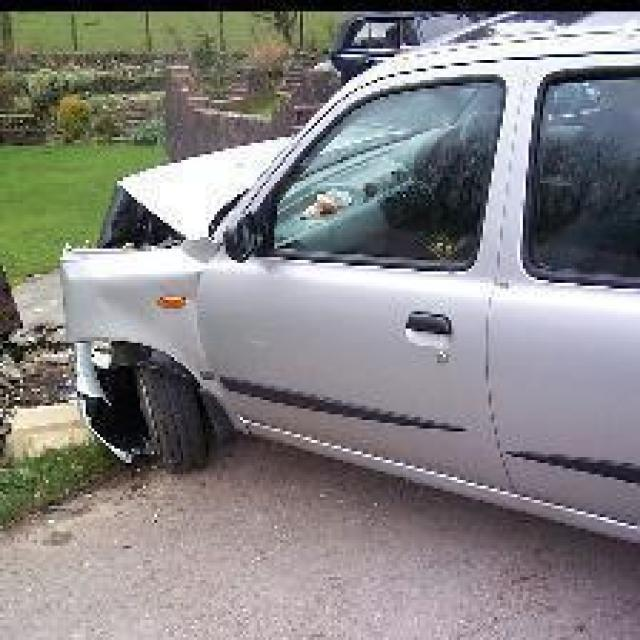damaged: (46, 120, 283, 466)
